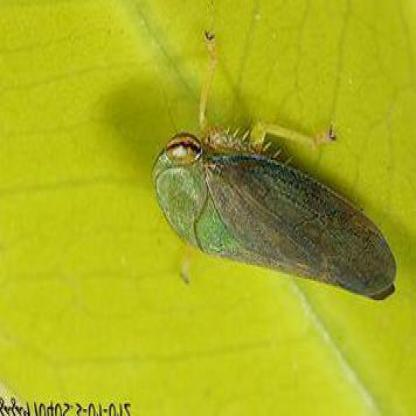green-leafhopper: (164, 130, 395, 296)
